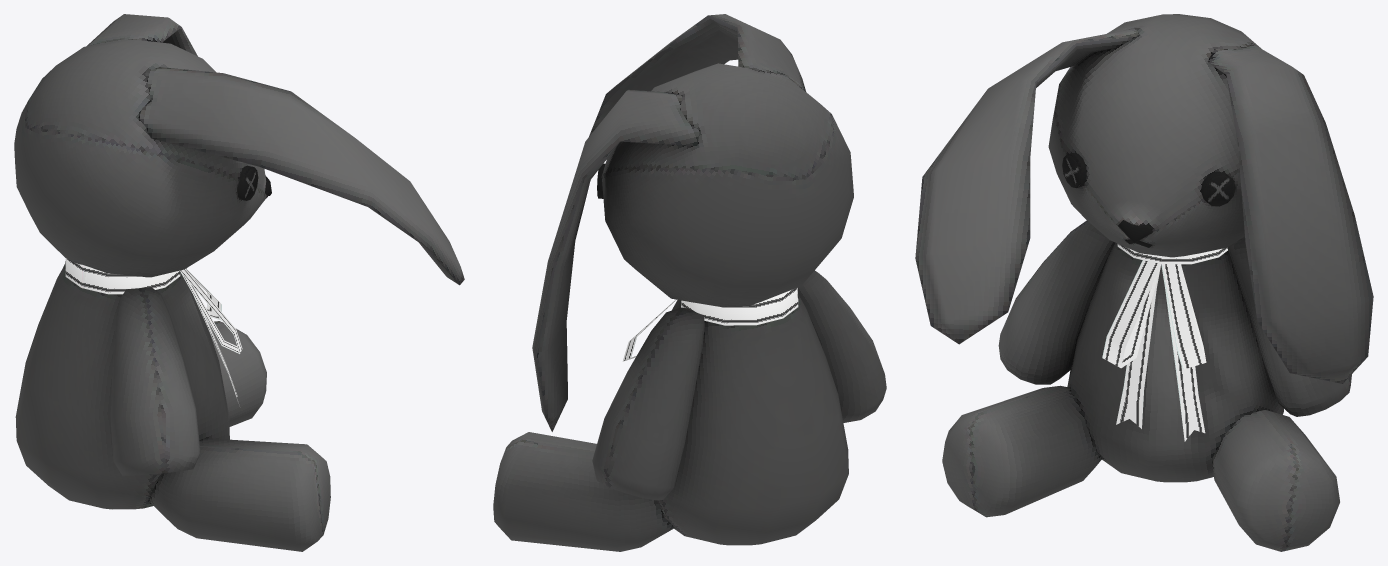
The model's file is 3dprop2.glb.
3 renders of one model, left to right at view 1: azimuth 30°, elevation 25°; view 2: azimuth 150°, elevation 25°; view 3: azimuth 270°, elevation 25°, orthographic. The views are drawn at different scales.
Visible parts, largest first — view 1: bunny; view 2: bunny; view 3: bunny.
Part boxes in pixels (x1,y1,x2,y2): bunny: [14, 14, 464, 551]; bunny: [493, 14, 886, 551]; bunny: [915, 14, 1373, 551].
Bounding box in the file's own units: 2.22 × 2.9 × 2.65.
Materials: 1 (1 with a texture image).
